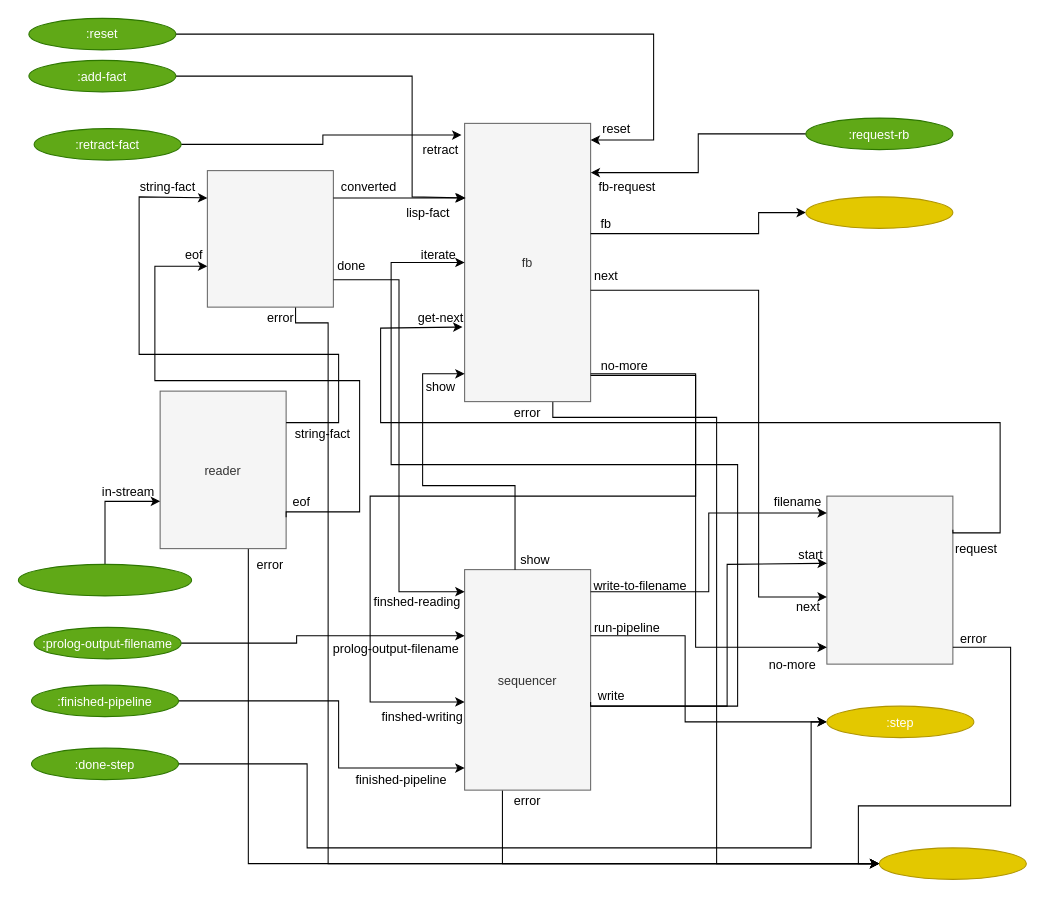
Image size: 1045x898. Some labels were removed from this diagram. The centre of each missing label's shape, as x and y in pixels:
:error: (x=952, y=863)
:fb: (x=879, y=212)
:prolog-factbase-string-stream: (x=104, y=579)
convert-to-keywords: (x=269, y=238)
writer: (x=889, y=579)
